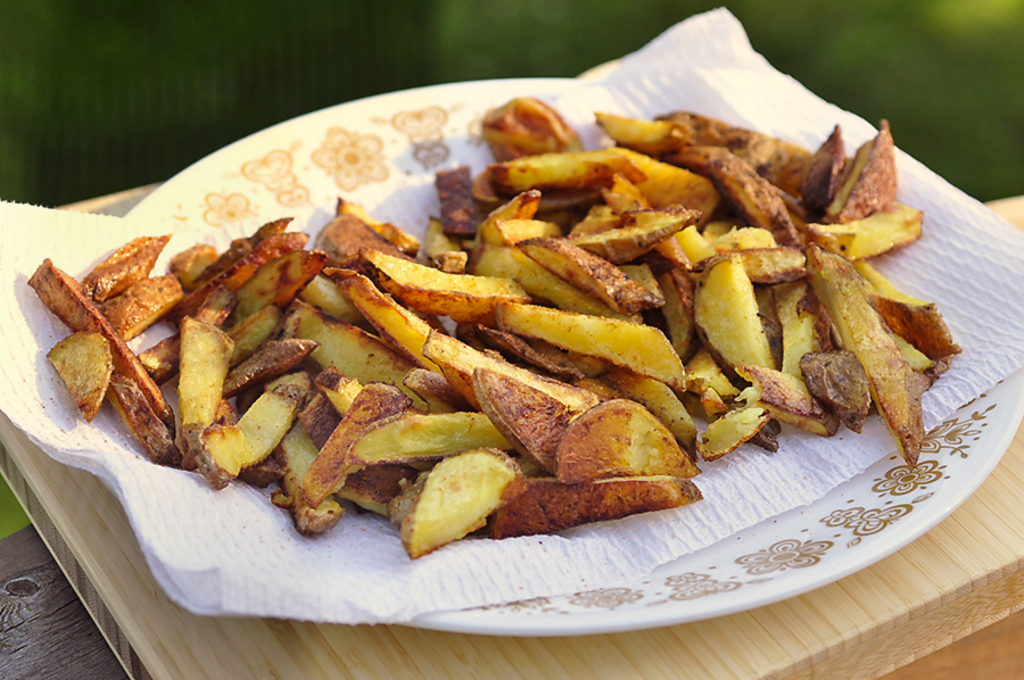French fries: (162, 138, 927, 535)
